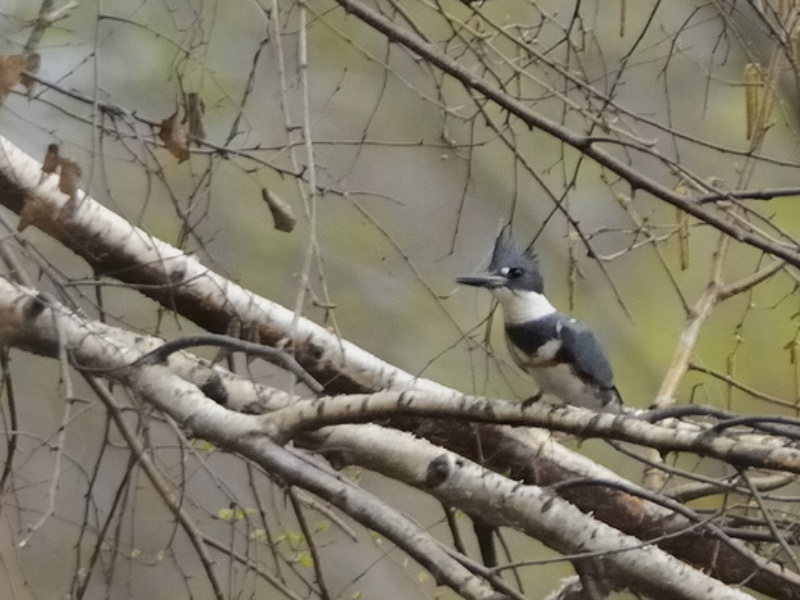kingfisher: (452, 221, 633, 433)
